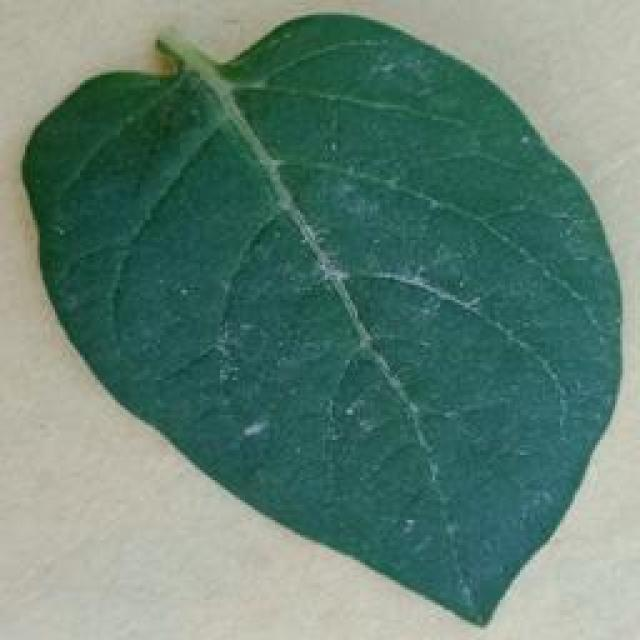Potato_Healthy: (19, 14, 614, 628)
